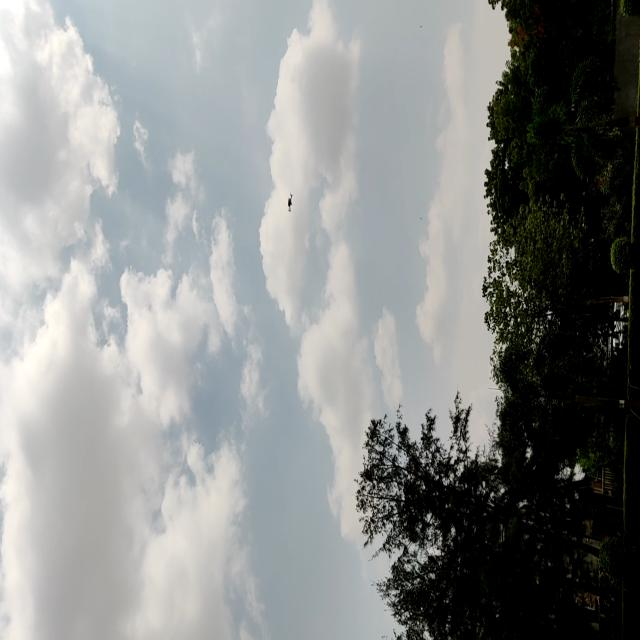drone: (284, 190, 296, 216)
